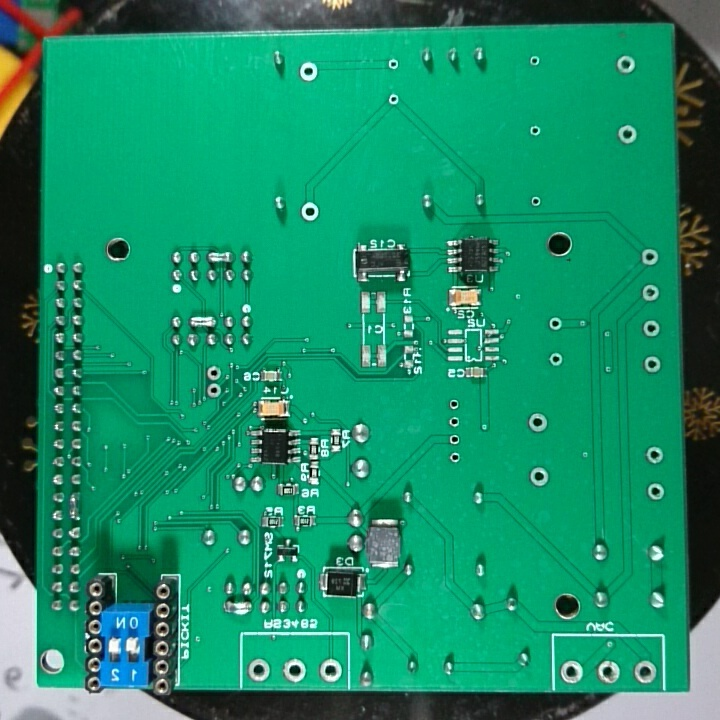F: (632, 658, 660, 689), (280, 656, 309, 684), (596, 658, 623, 686), (318, 655, 343, 684), (559, 658, 583, 686), (248, 655, 272, 683), (298, 199, 323, 224), (526, 409, 550, 435), (615, 123, 640, 147), (298, 60, 321, 86), (615, 53, 638, 78), (641, 316, 663, 341), (528, 465, 549, 491), (641, 282, 663, 304), (642, 353, 663, 376), (639, 246, 660, 268), (646, 482, 666, 504), (546, 313, 566, 334), (546, 349, 567, 369), (645, 446, 665, 466), (204, 382, 223, 400), (203, 364, 222, 382), (527, 52, 546, 69), (387, 90, 403, 110), (528, 121, 544, 139), (446, 396, 462, 414), (384, 55, 401, 71), (447, 450, 463, 467), (448, 430, 463, 447), (530, 192, 543, 211), (447, 414, 463, 429)
P: (222, 598, 255, 618), (188, 314, 219, 330), (206, 249, 235, 266), (69, 491, 83, 520)
